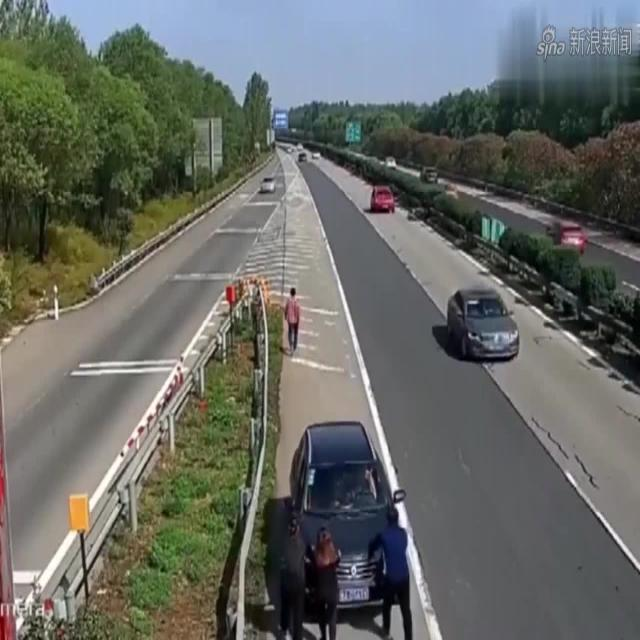point: (249, 92, 340, 216)
